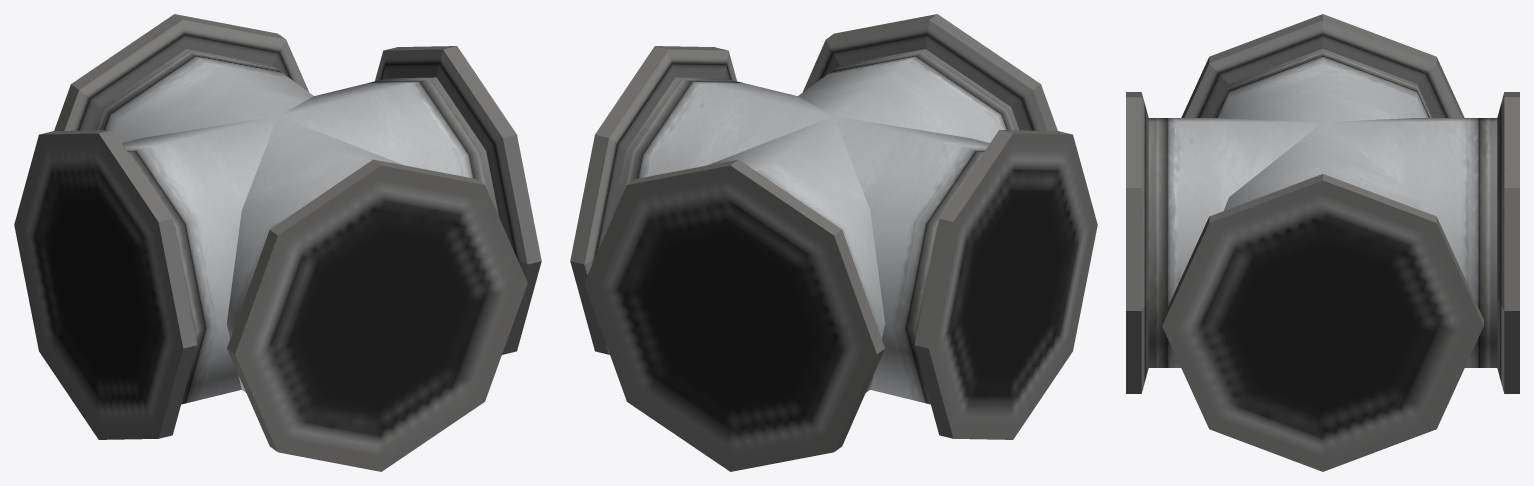
Rendered from pipe_X.glb.
3 renders of one model, left to right at view 1: azimuth 30°, elevation 25°; view 2: azimuth 150°, elevation 25°; view 3: azimuth 270°, elevation 25°, orthographic. The views are drawn at different scales.
Parts seen in each view (by area): view 1: zhuti.II.018; view 2: zhuti.II.018; view 3: zhuti.II.018.
Boxes of the visible parts, x1,y1,x2,y2 form: zhuti.II.018: [14, 14, 541, 471]; zhuti.II.018: [570, 14, 1097, 471]; zhuti.II.018: [1126, 14, 1519, 471].
Bounding box in the file's own units: 10 × 8.17 × 10.
1 material, 1 textured.
